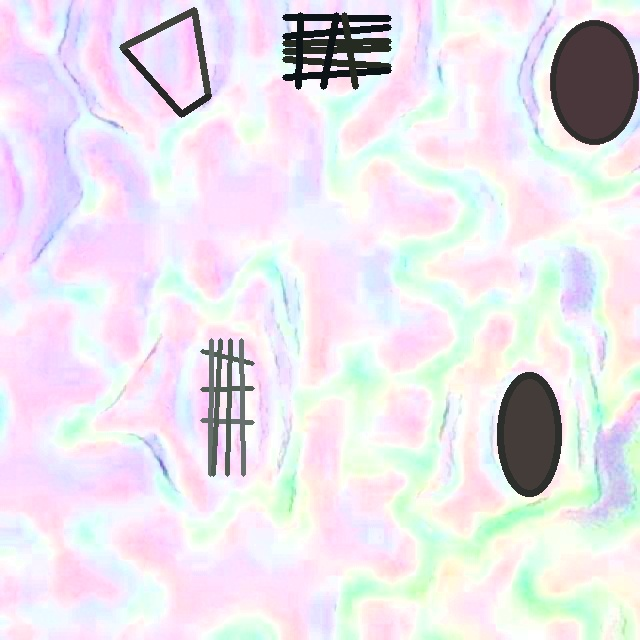close: (551, 20, 638, 145), (120, 7, 211, 117)
open: (282, 12, 391, 89), (497, 373, 561, 495), (200, 338, 254, 476)
